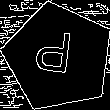P_S: (37, 30, 80, 84)
